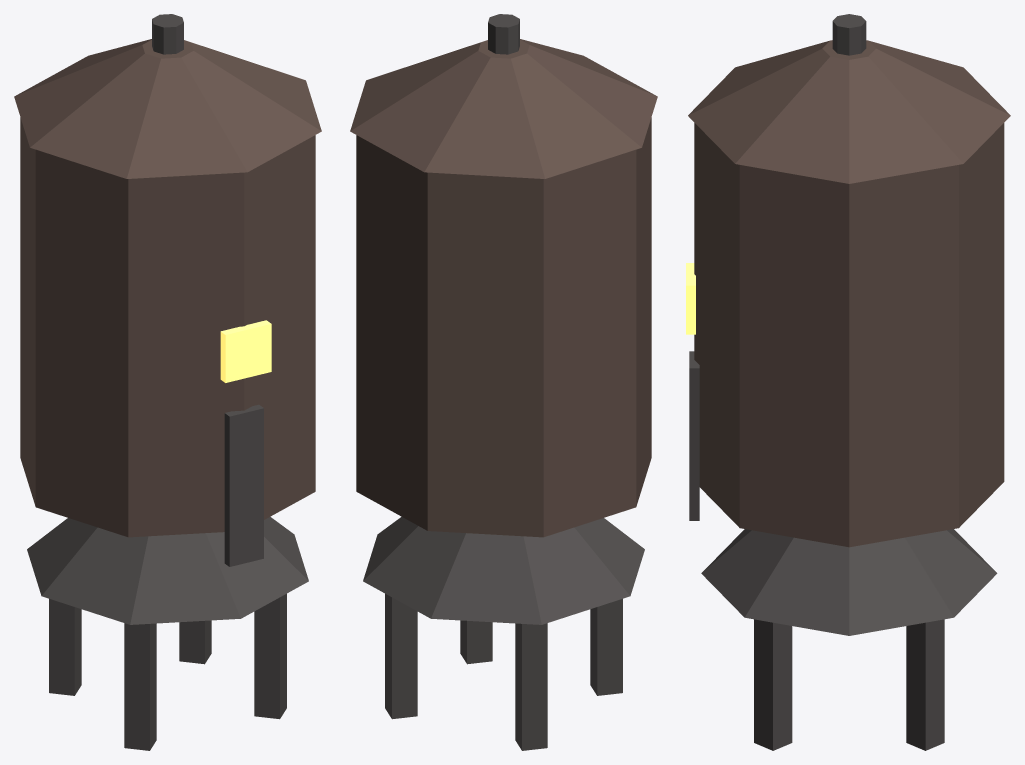
File: ore_tank_script.glb
3 renders of one model, left to right at view 1: azimuth 30°, elevation 25°; view 2: azimuth 150°, elevation 25°; view 3: azimuth 270°, elevation 25°, orthographic.
Parts seen in each view (by area): view 1: Cylinder, Cone.001, Cone, Cube.005, Cube.002, Cube.003, Cube.001, Cube.004, Cube, Cylinder.001; view 2: Cylinder, Cone.001, Cone, Cube.001, Cube, Cube.002, Cube.003, Cylinder.001; view 3: Cylinder, Cone.001, Cone, Cube, Cube.003, Cube.005, Cylinder.001, Cube.004.
Part boxes in pixels (x1,y1,x2,y2): Cylinder: [20, 117, 315, 537]; Cone.001: [14, 39, 321, 178]; Cone: [27, 516, 308, 624]; Cube.005: [224, 404, 263, 566]; Cube.002: [124, 623, 156, 750]; Cube.003: [254, 593, 286, 719]; Cube.001: [49, 598, 81, 695]; Cube.004: [220, 320, 271, 382]; Cube: [179, 620, 211, 664]; Cylinder.001: [152, 14, 183, 54]; Cylinder: [356, 117, 651, 537]; Cone.001: [350, 39, 657, 178]; Cone: [363, 516, 644, 624]; Cube.001: [515, 623, 547, 750]; Cube: [385, 593, 417, 719]; Cube.002: [590, 598, 622, 695]; Cube.003: [460, 620, 492, 664]; Cylinder.001: [488, 14, 519, 54]; Cylinder: [694, 123, 1004, 547]; Cone.001: [688, 40, 1010, 183]; Cone: [701, 529, 997, 635]; Cube: [906, 619, 944, 750]; Cube.003: [754, 619, 792, 750]; Cube.005: [689, 351, 699, 520]; Cylinder.001: [832, 14, 866, 55]; Cube.004: [686, 263, 695, 334].
Size of the model in its own units: 9.6 by 22.6 by 9.65.
